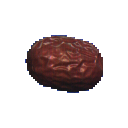gd: (15, 22, 116, 128)
